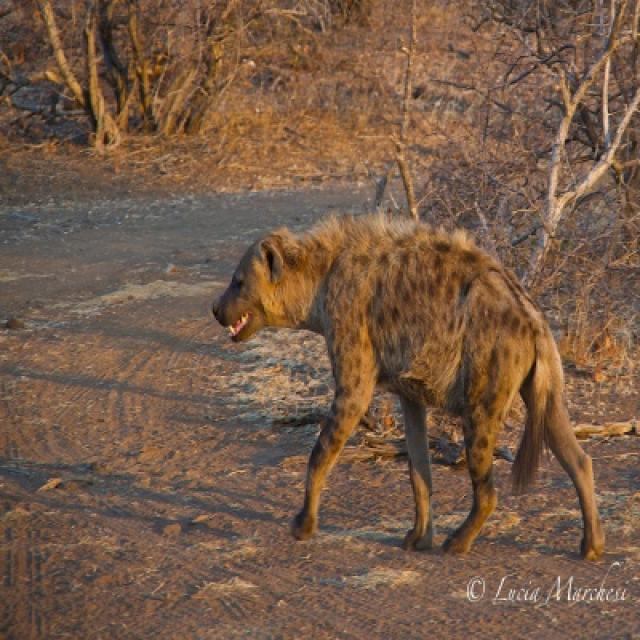hyena: (210, 213, 606, 563)
